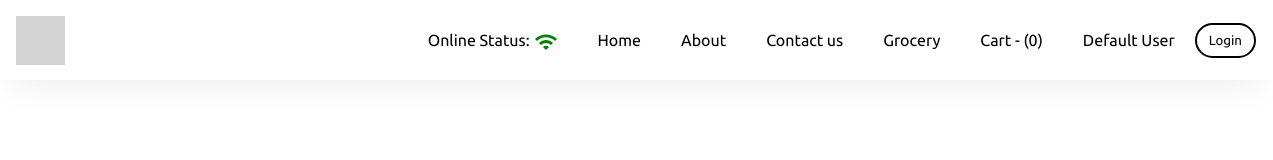
Test case: Should change login to logout onclick button
The image size is (1273, 160).
Note: Simulating click event
Click the button "Login". click: (1225, 40)
box: [1195,22,1256,58]
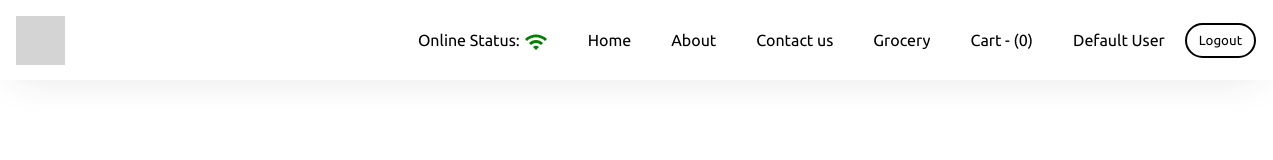
Check: the button "Logout" is shown, box [1185,22,1256,58]
